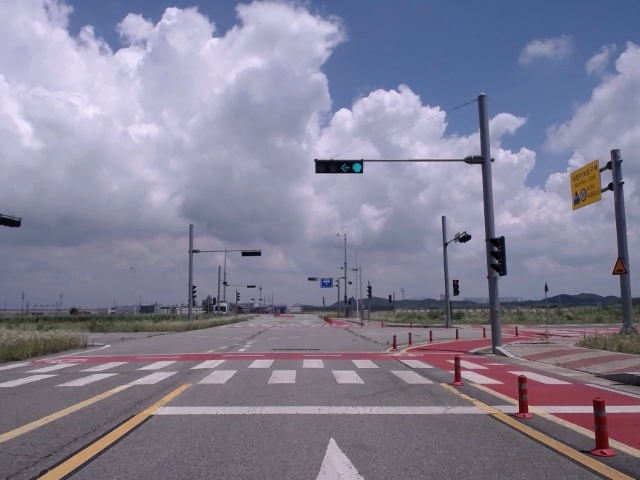all_green_4: (313, 159, 366, 178)
